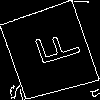F: (24, 26, 83, 71)
